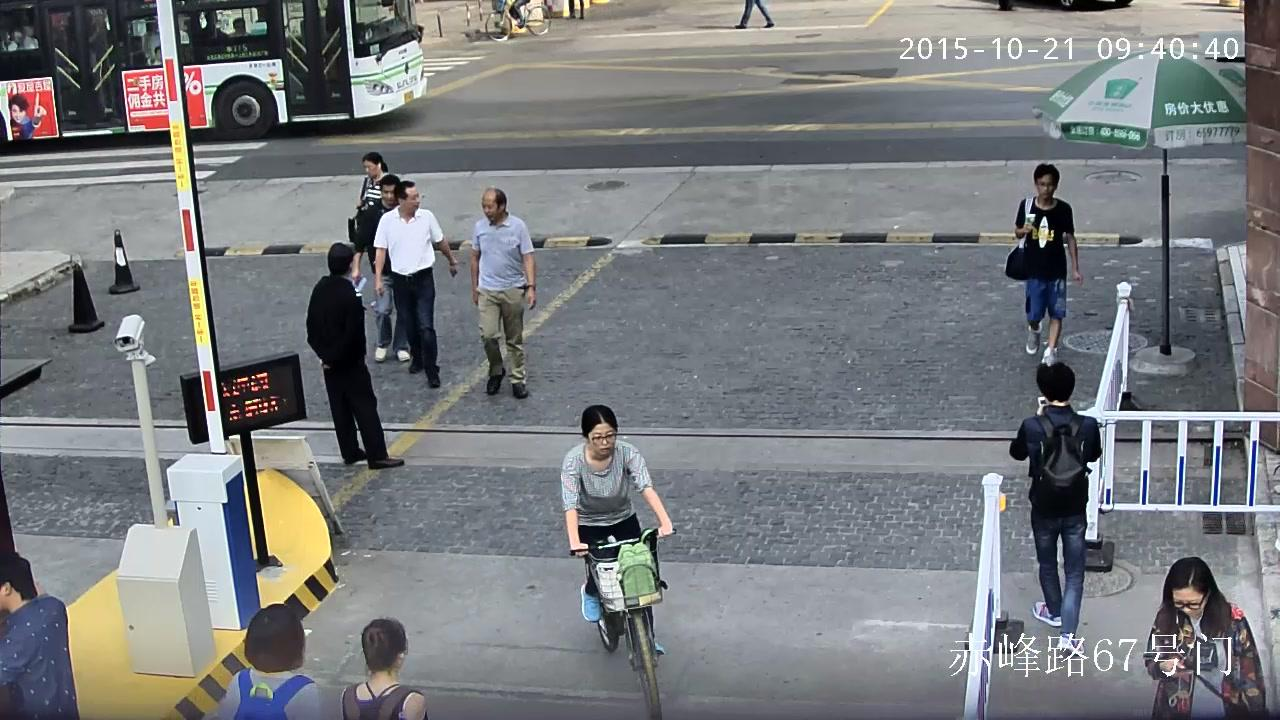person: (560, 403, 677, 720), (561, 403, 672, 655), (1009, 361, 1102, 654), (306, 241, 404, 469), (1143, 556, 1270, 720), (372, 180, 458, 388), (1004, 163, 1083, 365), (470, 187, 538, 398), (0, 551, 79, 720), (216, 604, 320, 720), (350, 175, 412, 361), (339, 617, 429, 720), (345, 151, 400, 301), (485, 0, 551, 42), (8, 89, 50, 141), (735, 0, 775, 27), (497, 0, 531, 28), (19, 24, 41, 49), (5, 26, 25, 50)
